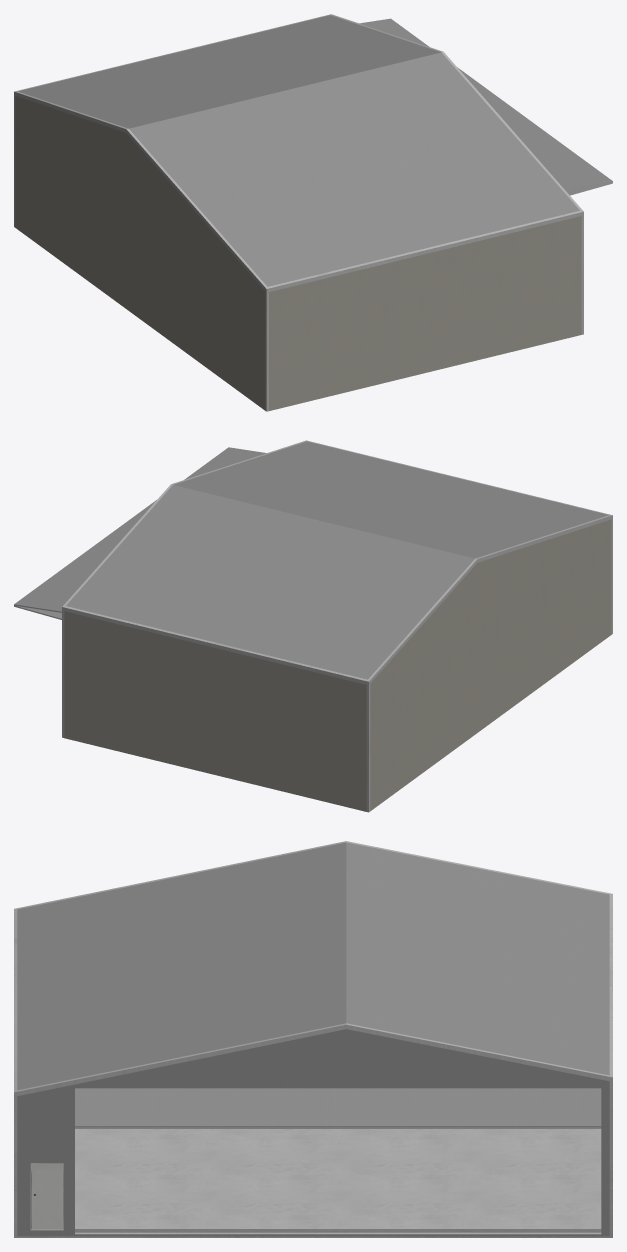
Rendered from gen_open_hangar01-18x13x5-cbj_LOD00.gltf.
3 renders of one model, top to bottom at view 1: azimuth 30°, elevation 25°; view 2: azimuth 150°, elevation 25°; view 3: azimuth 270°, elevation 25°, orthographic. The views are drawn at different scales.
Parts seen in each view (by area): view 1: Cube.013; view 2: Cube.013; view 3: Cube.013.
Boxes of the visible parts, box(x1,y1,x2,y2) form: Cube.013: box(14, 14, 612, 411); Cube.013: box(14, 440, 612, 812); Cube.013: box(14, 841, 612, 1237).
Bounding box in the file's own units: 15.47 × 7.15 × 18.2.
